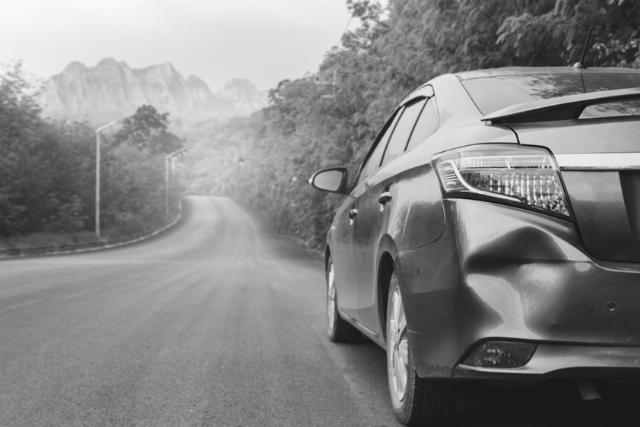Bumper: (455, 221, 599, 351)
